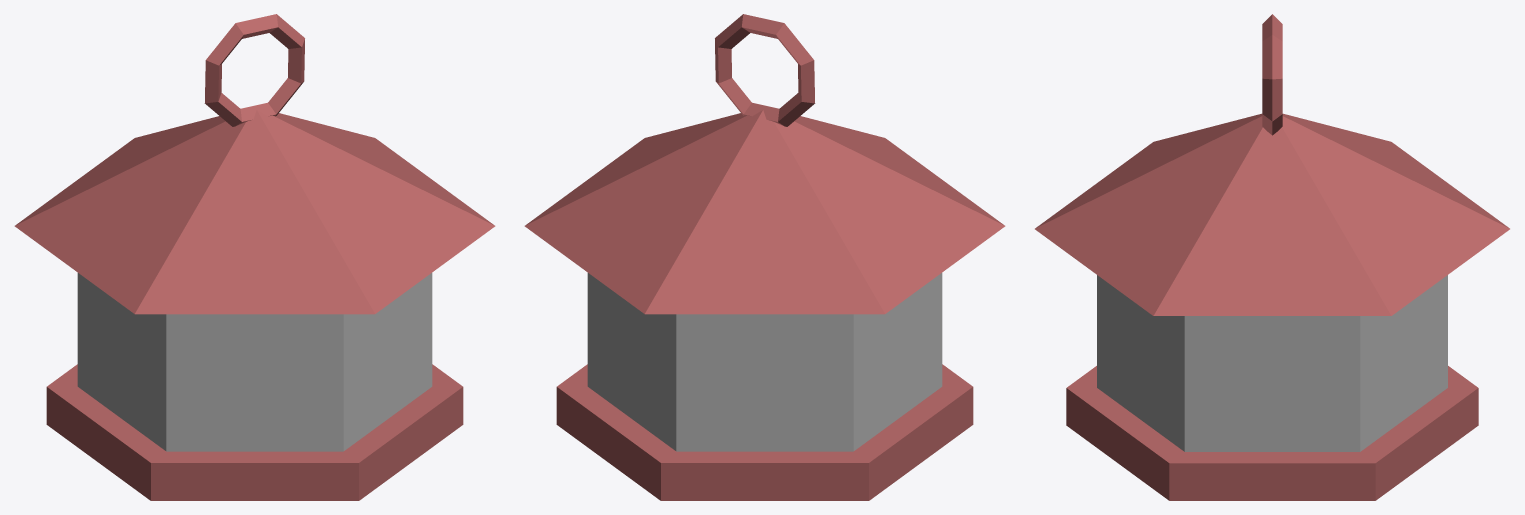
File: lantern.fbx
3 views of the same model, side by side, from view 1: azimuth 30°, elevation 25°; view 2: azimuth 150°, elevation 25°; view 3: azimuth 270°, elevation 25° (orthographic).
Visible parts, largest first — view 1: Interior_001_Mesh_Lantern_001; view 2: Interior_001_Mesh_Lantern_001; view 3: Interior_001_Mesh_Lantern_001.
Boxes of the visible parts, box(x1,y1,x2,y2) form: Interior_001_Mesh_Lantern_001: box(14, 14, 495, 500); Interior_001_Mesh_Lantern_001: box(524, 14, 1005, 500); Interior_001_Mesh_Lantern_001: box(1035, 14, 1509, 500).
Size of the model in its own units: 66.71 by 71.78 by 77.03.
